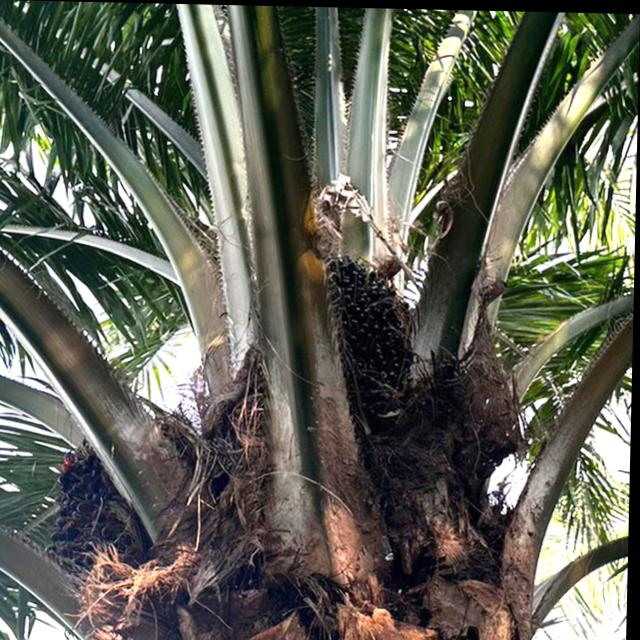ripe: (315, 242, 422, 403)
